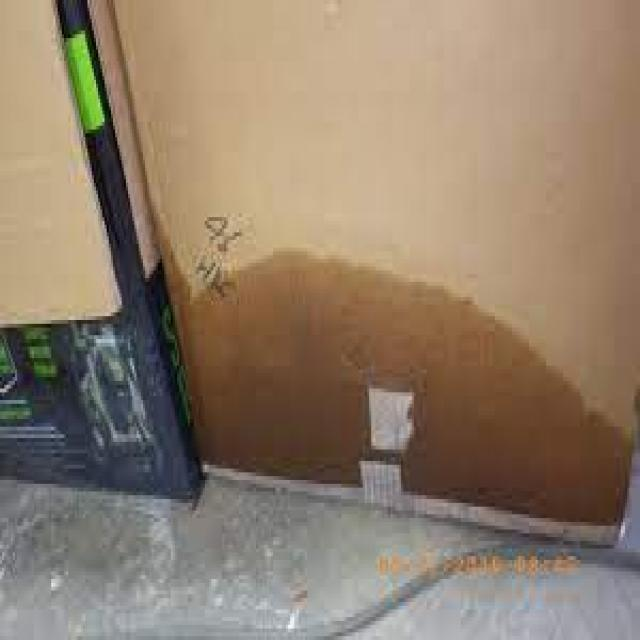wet: (158, 224, 632, 554)
